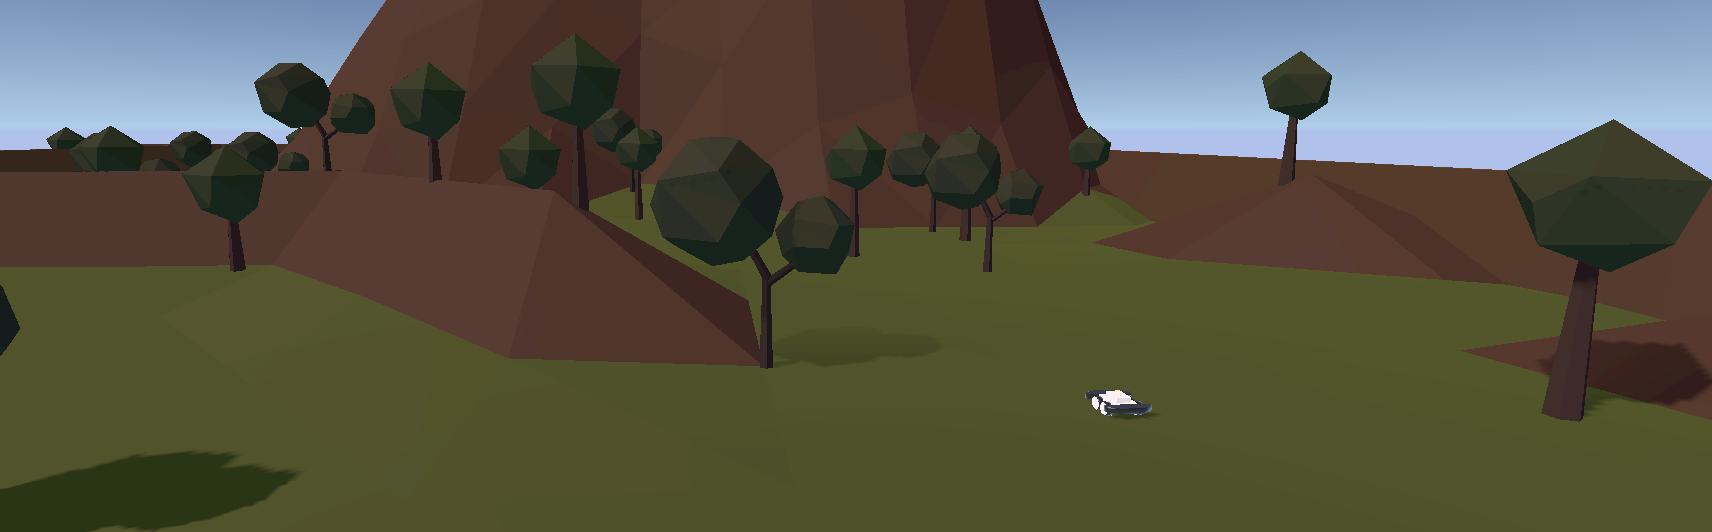tree: (1493, 121, 1712, 423), (651, 135, 855, 376), (931, 131, 1042, 275), (531, 33, 620, 208), (252, 62, 379, 170), (1251, 50, 1339, 187), (185, 145, 267, 272), (391, 60, 475, 184), (824, 126, 885, 263), (890, 133, 948, 238), (611, 127, 666, 218), (499, 125, 561, 193), (1066, 125, 1113, 200), (588, 102, 645, 156), (81, 125, 146, 172), (165, 130, 217, 176), (43, 123, 85, 155)
